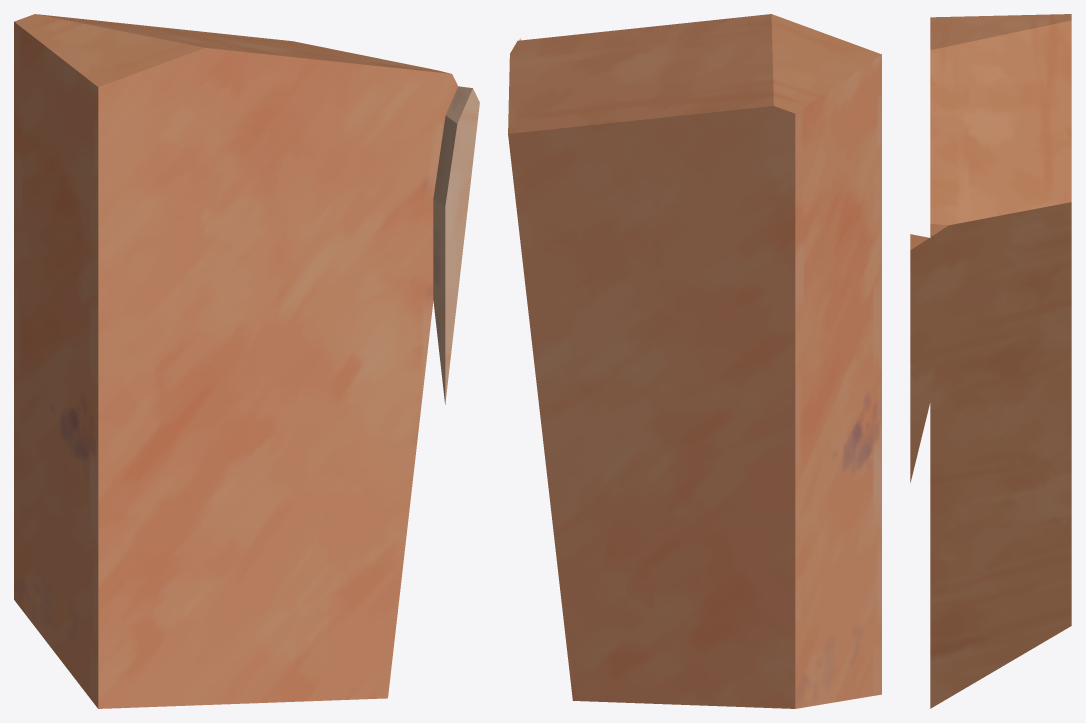
Rendered from wall2_upper_window_s01.fbx.
3 renders of one model, left to right at view 1: azimuth 30°, elevation 25°; view 2: azimuth 150°, elevation 25°; view 3: azimuth 270°, elevation 25°, orthographic. The views are drawn at different scales.
Parts seen in each view (by area): view 1: wall2_upper_window_s01; view 2: wall2_upper_window_s01; view 3: wall2_upper_window_s01.
Boxes of the visible parts, x1=… form: wall2_upper_window_s01: x1=14, y1=14, x2=479, y2=708; wall2_upper_window_s01: x1=508, y1=14, x2=881, y2=708; wall2_upper_window_s01: x1=910, y1=14, x2=1071, y2=708.
Bounding box in the file's own units: 2.54 × 4.56 × 1.14.
